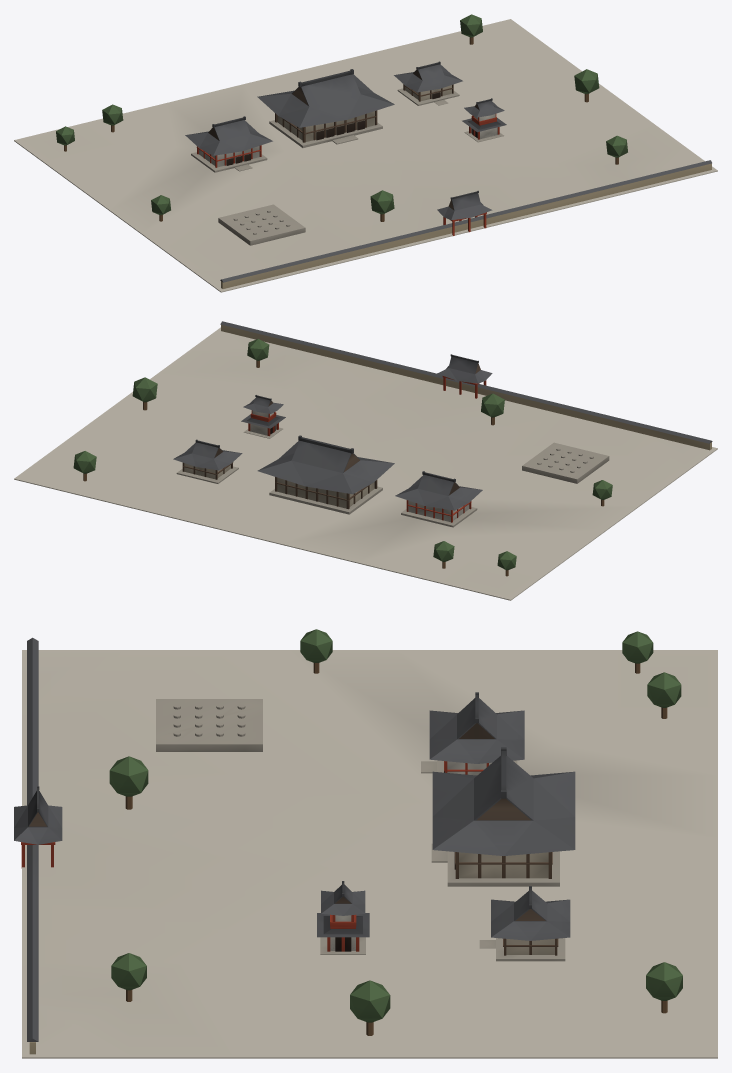
Rendered from saidaiji.glb.
The picture shows the model from 3 angles, top to bottom: view 1: azimuth 30°, elevation 25°; view 2: azimuth 150°, elevation 25°; view 3: azimuth 270°, elevation 25°; orthographic projection. The views are drawn at different scales.
Parts seen in each view (by area): view 1: p0_grounds, p2_roofs, p1_halls; view 2: p0_grounds, p2_roofs, p1_halls; view 3: p0_grounds, p2_roofs, p1_halls.
Boxes of the visible parts, x1,y1,x2,y2 form: p0_grounds: (14,19,717,292); p2_roofs: (56,14,627,221); p1_halls: (191,84,503,235); p0_grounds: (14,321,717,600); p2_roofs: (73,338,612,576); p1_halls: (176,354,593,527); p0_grounds: (22,637,717,1058); p2_roofs: (109,629,682,1035); p1_halls: (14,704,565,961).
Size of the model in its own units: 180 by 17.72 by 132.
